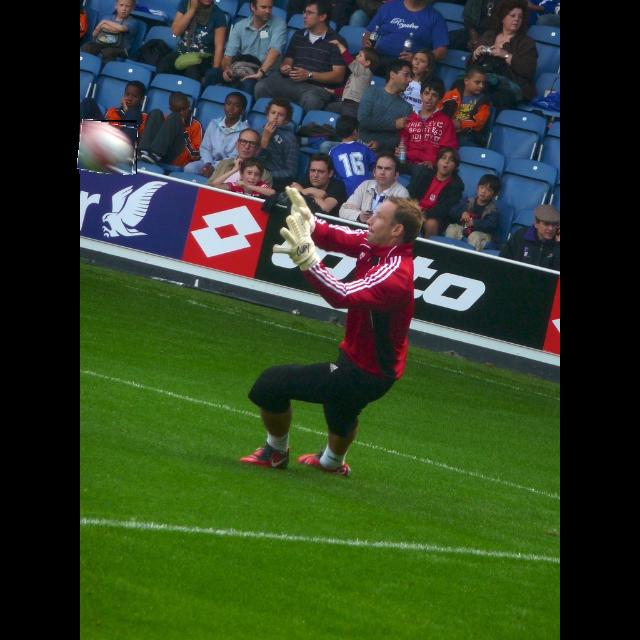Football: (79, 120, 137, 174)
